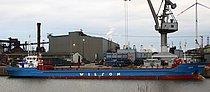Ship: (3, 49, 210, 83)
